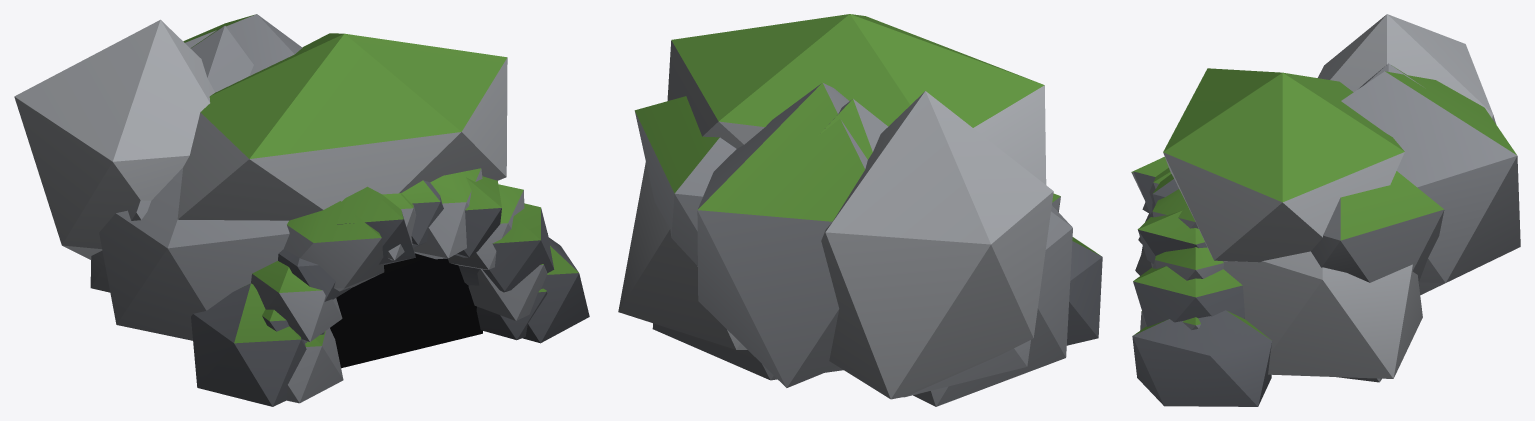
Rendered from cave.glb.
3 views of the same model, side by side, from view 1: azimuth 30°, elevation 25°; view 2: azimuth 150°, elevation 25°; view 3: azimuth 270°, elevation 25° (orthographic). The views are drawn at different scales.
Visible parts, largest first — view 1: cave; view 2: cave; view 3: cave.
Part boxes in pixels (bbox=[...]): cave: bbox=[14, 14, 589, 406]; cave: bbox=[618, 14, 1102, 406]; cave: bbox=[1131, 14, 1520, 406].
Bounding box in the file's own units: 8.94 × 5.87 × 8.07.
